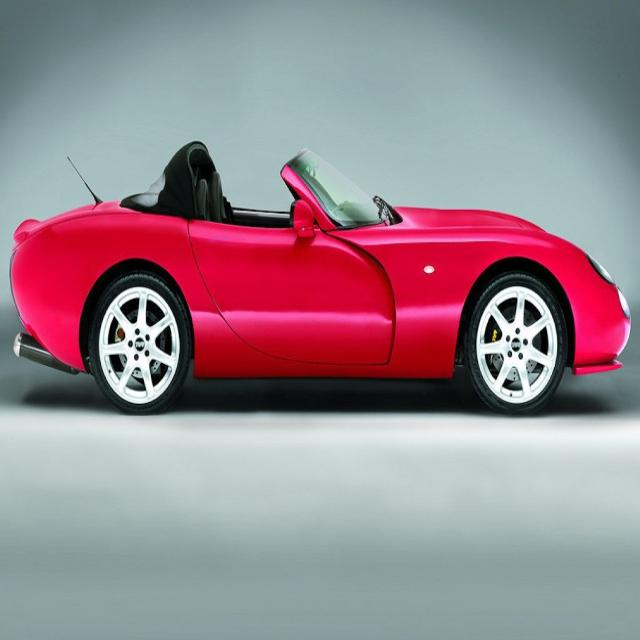front_glass: (290, 147, 390, 228)
front_right_side_door: (188, 216, 393, 369)
front_right_side_light: (588, 252, 631, 321)
front_right_side_mirror: (288, 198, 315, 242)
wheel: (465, 270, 568, 411), (89, 273, 187, 413)
